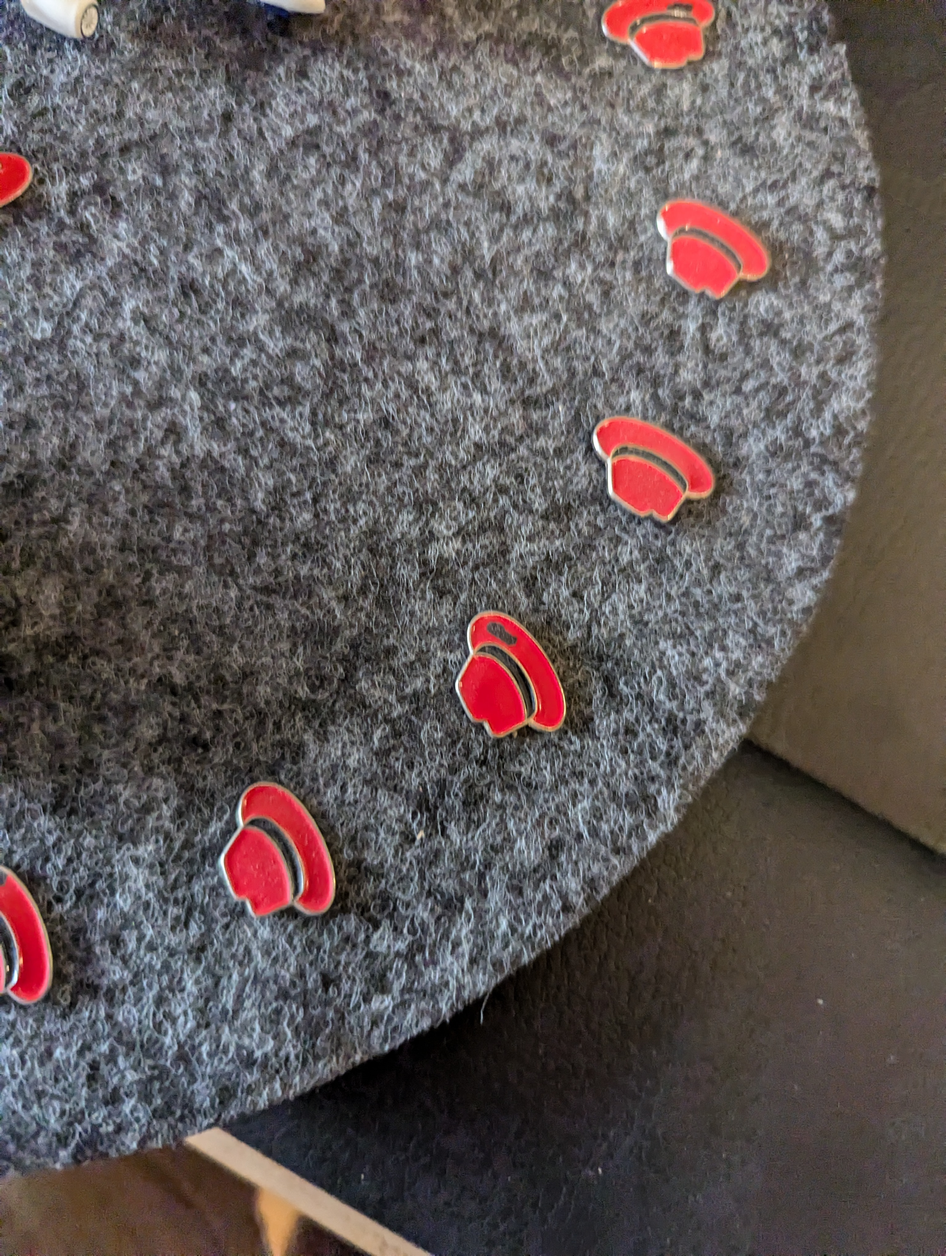Red-Hat: (404, 568, 643, 768), (192, 747, 364, 953), (549, 393, 751, 532), (625, 175, 809, 312), (0, 835, 83, 1023), (568, 0, 741, 83)
Scratch: (462, 603, 541, 662), (631, 0, 710, 25)
